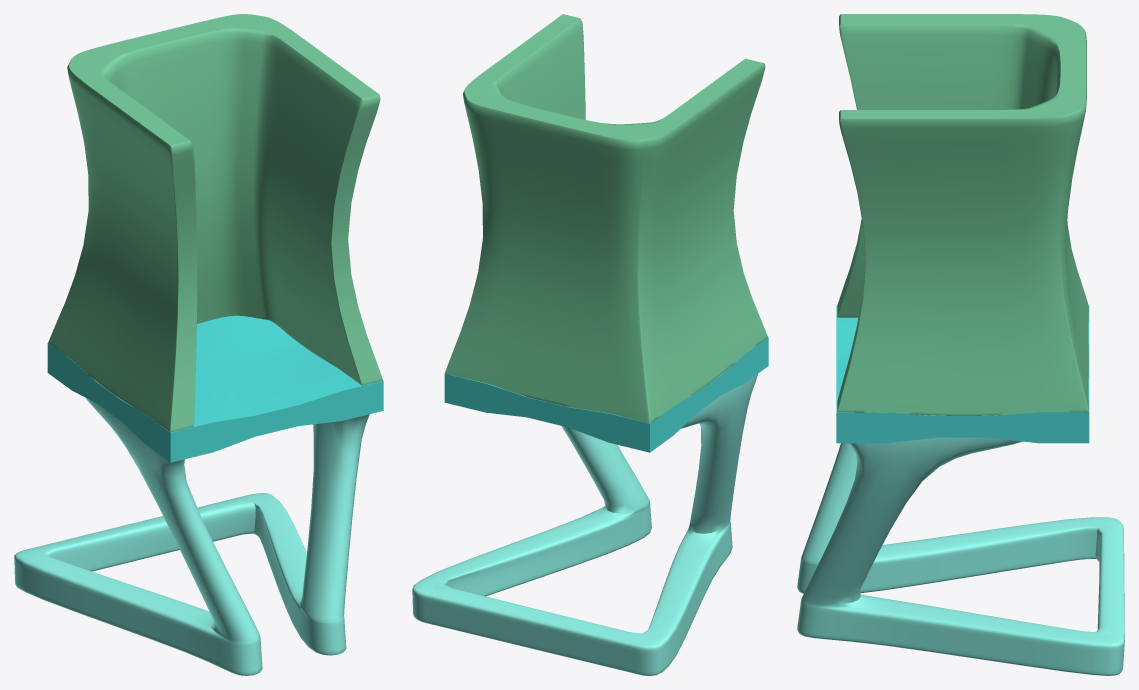
3 views of the same model, side by side, from view 1: azimuth 30°, elevation 25°; view 2: azimuth 150°, elevation 25°; view 3: azimuth 270°, elevation 25° (orthographic). The views are drawn at different scales.
Parts seen in each view (by area): view 1: split_parent_2, split_parent_1, Object_2; view 2: split_parent_2, split_parent_1, Object_2; view 3: split_parent_2, split_parent_1, Object_2.
Boxes of the visible parts, x1=… form: split_parent_2: x1=48, y1=14, x2=382, y2=432; split_parent_1: x1=14, y1=398, x2=369, y2=675; Object_2: x1=47, y1=315, x2=383, y2=462; split_parent_2: x1=445, y1=14, x2=767, y2=423; split_parent_1: x1=412, y1=374, x2=757, y2=675; Object_2: x1=444, y1=337, x2=768, y2=452; split_parent_2: x1=837, y1=14, x2=1088, y2=415; split_parent_1: x1=797, y1=437, x2=1124, y2=675; Object_2: x1=836, y1=305, x2=1089, y2=443.
Bounding box in the file's own units: 0.5041 × 1 × 0.5424.
